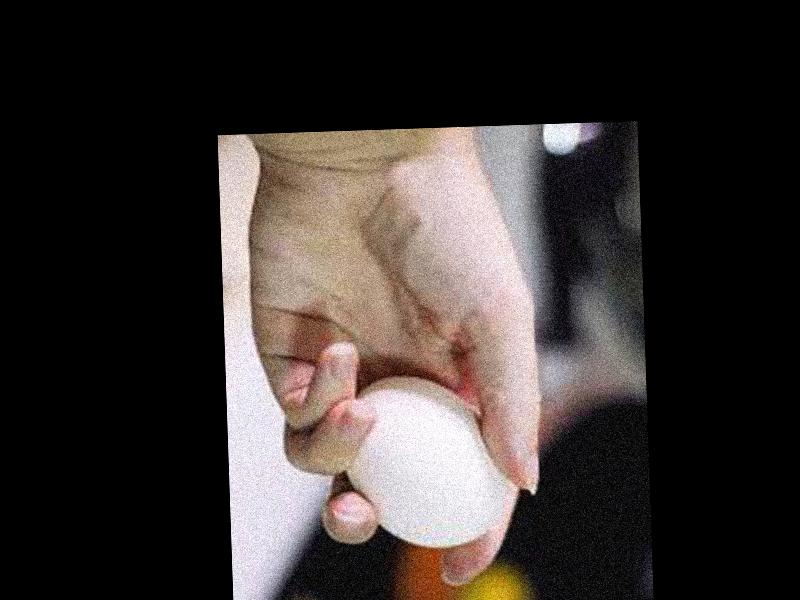Eggs: (344, 374, 509, 552)
